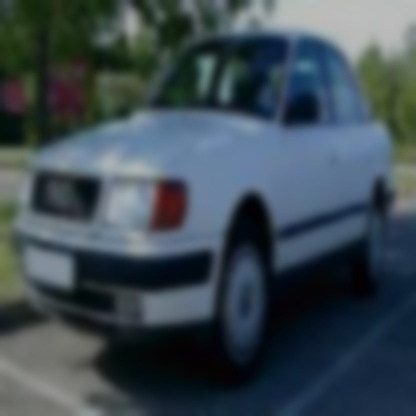Vehicle: (11, 32, 399, 398)
